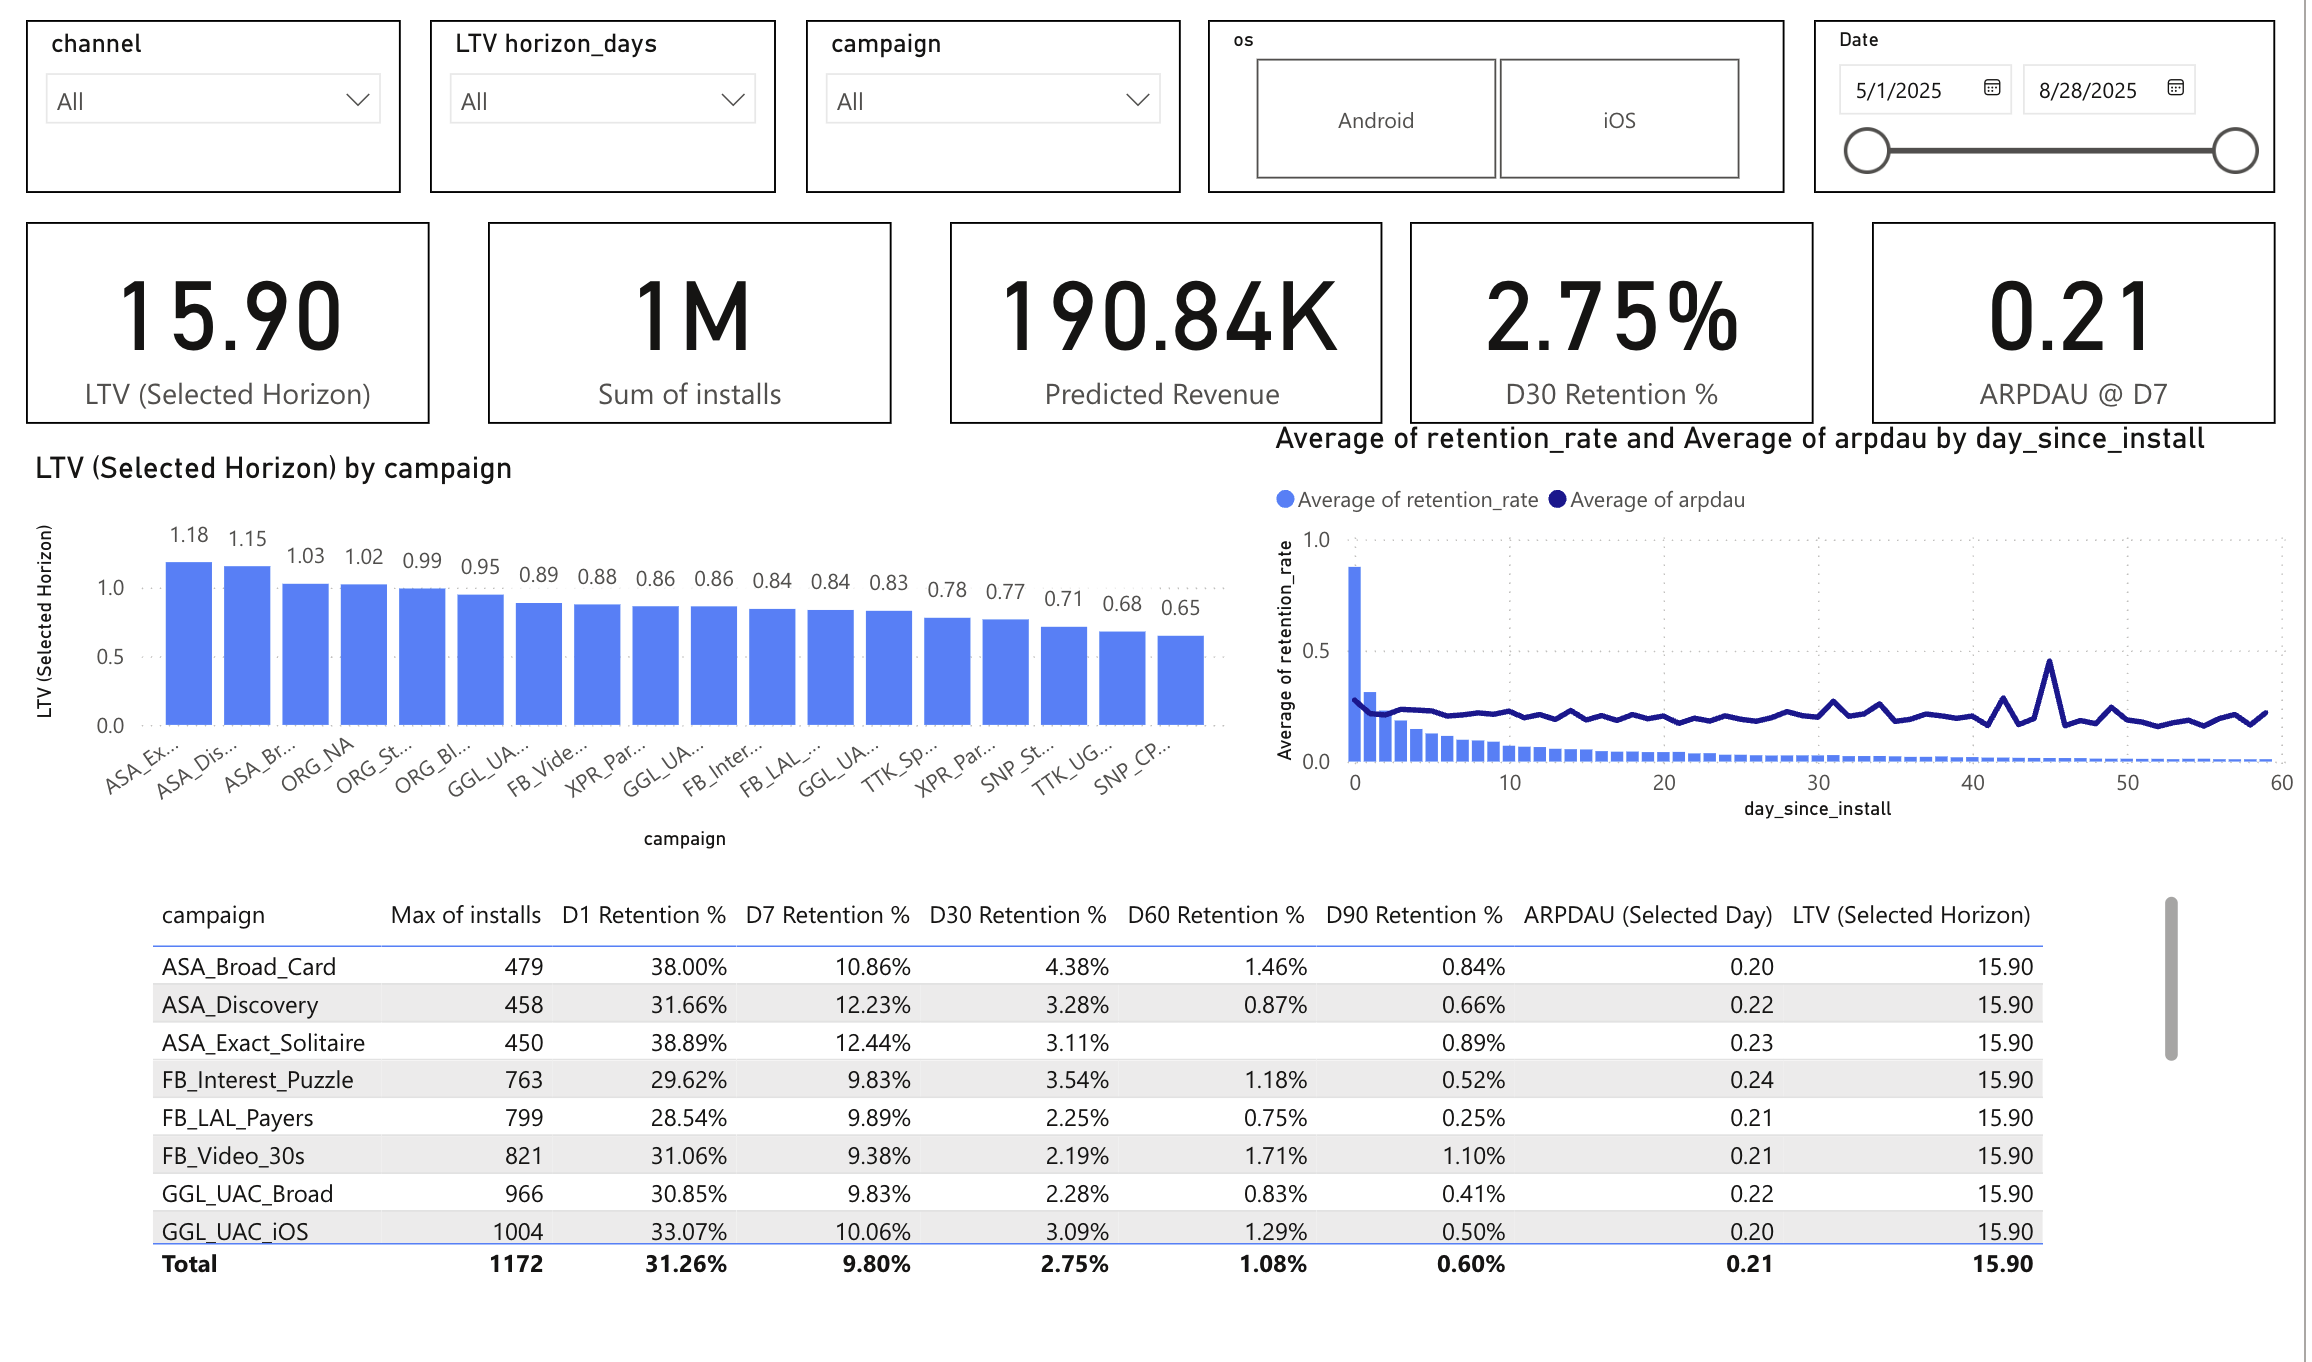

The dashboard page shown, as its layout file describes it:
{"tool":"powerbi","page":{"name":"LTV and Prediction","canvas":[1280,720],"ordinal":4},"visuals":[{"type":"slicer","fields":{"Values":["Date.Date"]},"box":[1008,16,256,96],"z":0},{"type":"slicer","fields":{"Values":["users.os"]},"box":[672,16,320,96],"z":1000},{"type":"slicer","fields":{"Values":["ltv_prediction.horizon_days"]},"box":[240,16,192,96],"z":2000},{"type":"slicer","fields":{"Values":["users.channel"]},"box":[16,16,208,96],"z":3000},{"type":"slicer","fields":{"Values":["users.campaign"]},"box":[448,16,208,96],"z":4000},{"type":"card","fields":{"Values":["measure.LTV (Selected Horizon)"]},"box":[16,128,224,112],"z":5000},{"type":"lineStackedColumnComboChart","fields":{"Category":["ltv_prediction.campaign"],"Y":["measure.LTV (Selected Horizon)"]},"box":[16,256,672,224],"z":6000},{"type":"tableEx","fields":{"Values":["campaign_retention_arpdau.campaign","Max(campaign_retention_arpdau.installs)","measure.D1 Retention %","measure.D7 Retention %","measure.D30 Retention %","measure.D60 Retention %","measure.D90 Retention %","measure.ARPDAU (Selected Day)","measure.LTV (Selected Horizon)"]},"box":[80,496,1136,224],"z":7000},{"type":"lineStackedColumnComboChart","fields":{"Category":["campaign_retention_arpdau.day_since_install"],"Y":["Avg(campaign_retention_arpdau.retention_rate)"],"Y2":["Avg(campaign_retention_arpdau.arpdau)"]},"box":[704,240,576,224],"z":8000},{"type":"card","fields":{"Values":["Sum(campaign_retention_arpdau.installs)"]},"box":[272,128,224,112],"z":9000},{"type":"card","fields":{"Values":["measure.Predicted Revenue (Selected Horizon)"]},"box":[528,128,240,112],"z":10000},{"type":"card","fields":{"Values":["measure.D30 Retention %"]},"box":[784,128,224,112],"z":11000},{"type":"card","fields":{"Values":["measure.ARPDAU @ D7"]},"box":[1040,128,224,112],"z":12000}]}

Visuals, with their boxes on the page's 1280x720 design canvas (x1, y1, x2, y2). These are canvas units, not pixel positions in the 2312x1362 screenshot, which may show the page scaled, cropped or inside an application window:
slicer - Date.Date: bbox(1008, 16, 1264, 112)
slicer - users.os: bbox(672, 16, 992, 112)
slicer - ltv_prediction.horizon_days: bbox(240, 16, 432, 112)
slicer - users.channel: bbox(16, 16, 224, 112)
slicer - users.campaign: bbox(448, 16, 656, 112)
card - measure.LTV (Selected Horizon): bbox(16, 128, 240, 240)
lineStackedColumnComboChart - ltv_prediction.campaign x measure.LTV (Selected Horizon): bbox(16, 256, 688, 480)
tableEx - campaign_retention_arpdau.campaign x Max(campaign_retention_arpdau.installs): bbox(80, 496, 1216, 720)
lineStackedColumnComboChart - campaign_retention_arpdau.day_since_install x Avg(campaign_retention_arpdau.retention_rate): bbox(704, 240, 1280, 464)
card - Sum(campaign_retention_arpdau.installs): bbox(272, 128, 496, 240)
card - measure.Predicted Revenue (Selected Horizon): bbox(528, 128, 768, 240)
card - measure.D30 Retention %: bbox(784, 128, 1008, 240)
card - measure.ARPDAU @ D7: bbox(1040, 128, 1264, 240)
